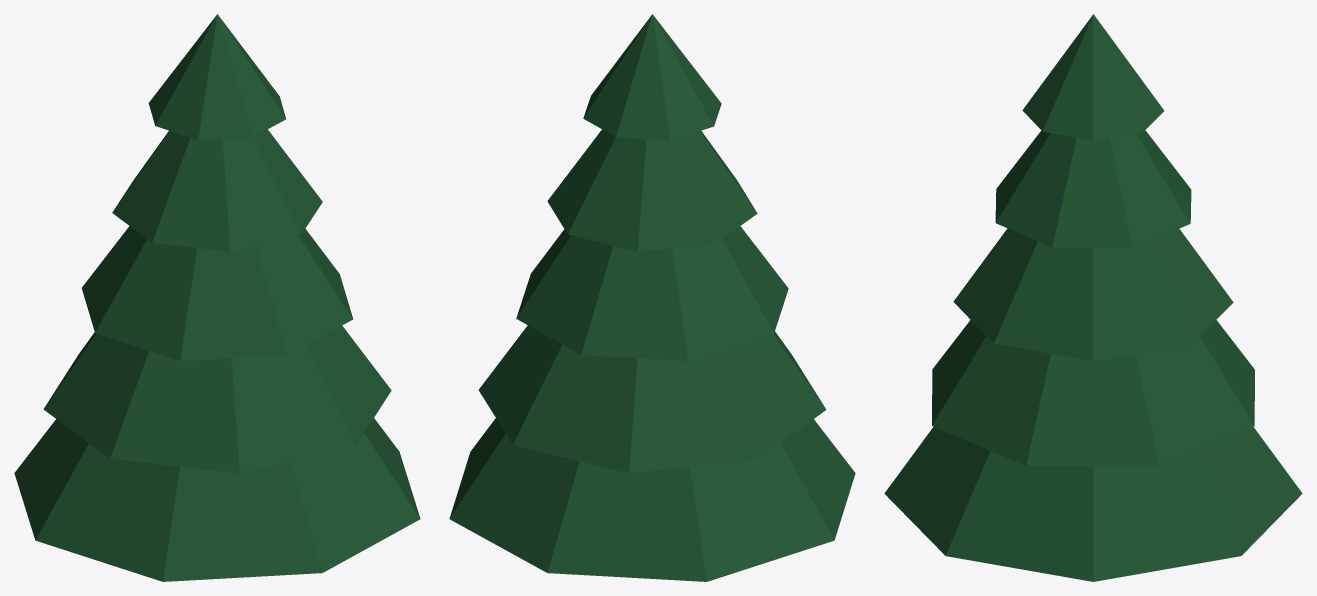
File: pine.fbx
3 renders of one model, left to right at view 1: azimuth 30°, elevation 25°; view 2: azimuth 150°, elevation 25°; view 3: azimuth 270°, elevation 25°, orthographic.
Visible parts, largest first — view 1: Pine; view 2: Pine; view 3: Pine.
Part boxes in pixels (bbox=[...]): Pine: bbox=[14, 14, 420, 581]; Pine: bbox=[449, 14, 855, 581]; Pine: bbox=[884, 14, 1302, 581].
Bounding box in the file's own units: 3.3 × 4.17 × 3.3.
